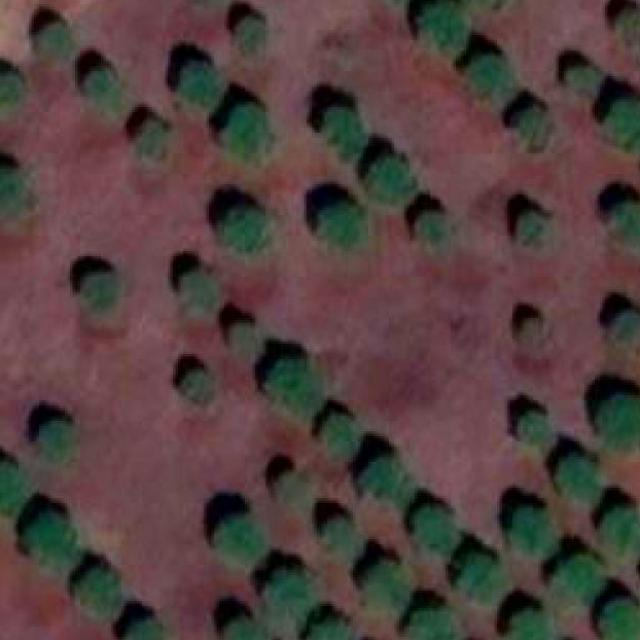Tree: (271, 357, 322, 419), (510, 503, 562, 563), (356, 560, 411, 614), (219, 105, 271, 159), (24, 511, 75, 566), (356, 454, 411, 503), (209, 517, 260, 568), (548, 454, 600, 503), (368, 155, 418, 205), (591, 395, 640, 444), (557, 553, 603, 604), (459, 551, 505, 601), (419, 0, 466, 48), (75, 568, 122, 614), (266, 570, 310, 619), (409, 506, 454, 553), (219, 205, 266, 249), (600, 503, 639, 555), (181, 64, 225, 108), (315, 203, 359, 247), (320, 107, 364, 148), (317, 414, 356, 458), (85, 69, 122, 115), (0, 166, 34, 215), (466, 54, 507, 94), (404, 608, 454, 640), (512, 212, 552, 251), (597, 601, 636, 640), (317, 514, 356, 552), (224, 318, 260, 359), (80, 272, 120, 308), (514, 107, 554, 143), (34, 419, 75, 453), (610, 308, 640, 352), (135, 120, 169, 158), (232, 17, 266, 54), (522, 315, 554, 354), (610, 102, 640, 143), (178, 270, 212, 306), (270, 472, 304, 508), (410, 213, 446, 247), (0, 74, 27, 118), (37, 22, 73, 54), (612, 205, 640, 244), (304, 616, 348, 640), (567, 68, 603, 97), (178, 370, 212, 400), (0, 459, 21, 507), (224, 613, 260, 640), (511, 609, 542, 640), (518, 410, 548, 440), (126, 621, 166, 640), (620, 10, 640, 48)
